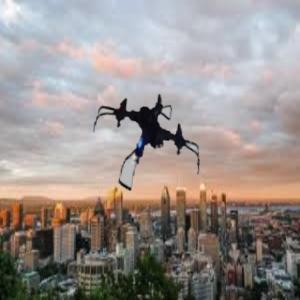drone: (89, 86, 207, 204)
